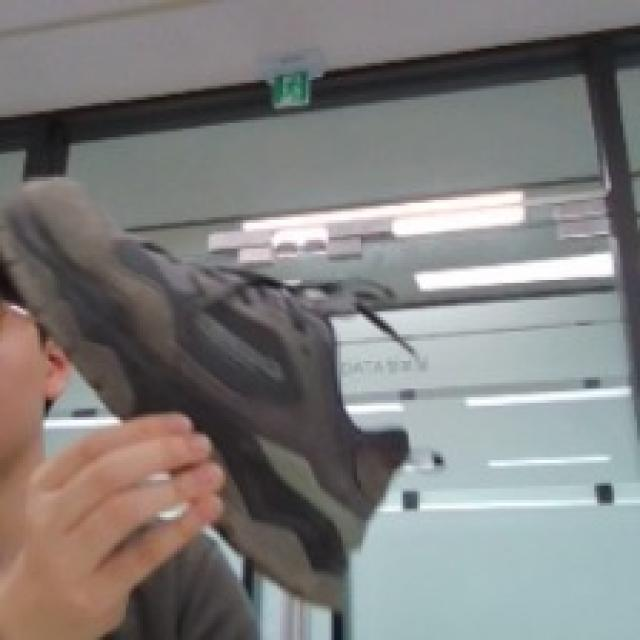shoe: (0, 178, 429, 624)
